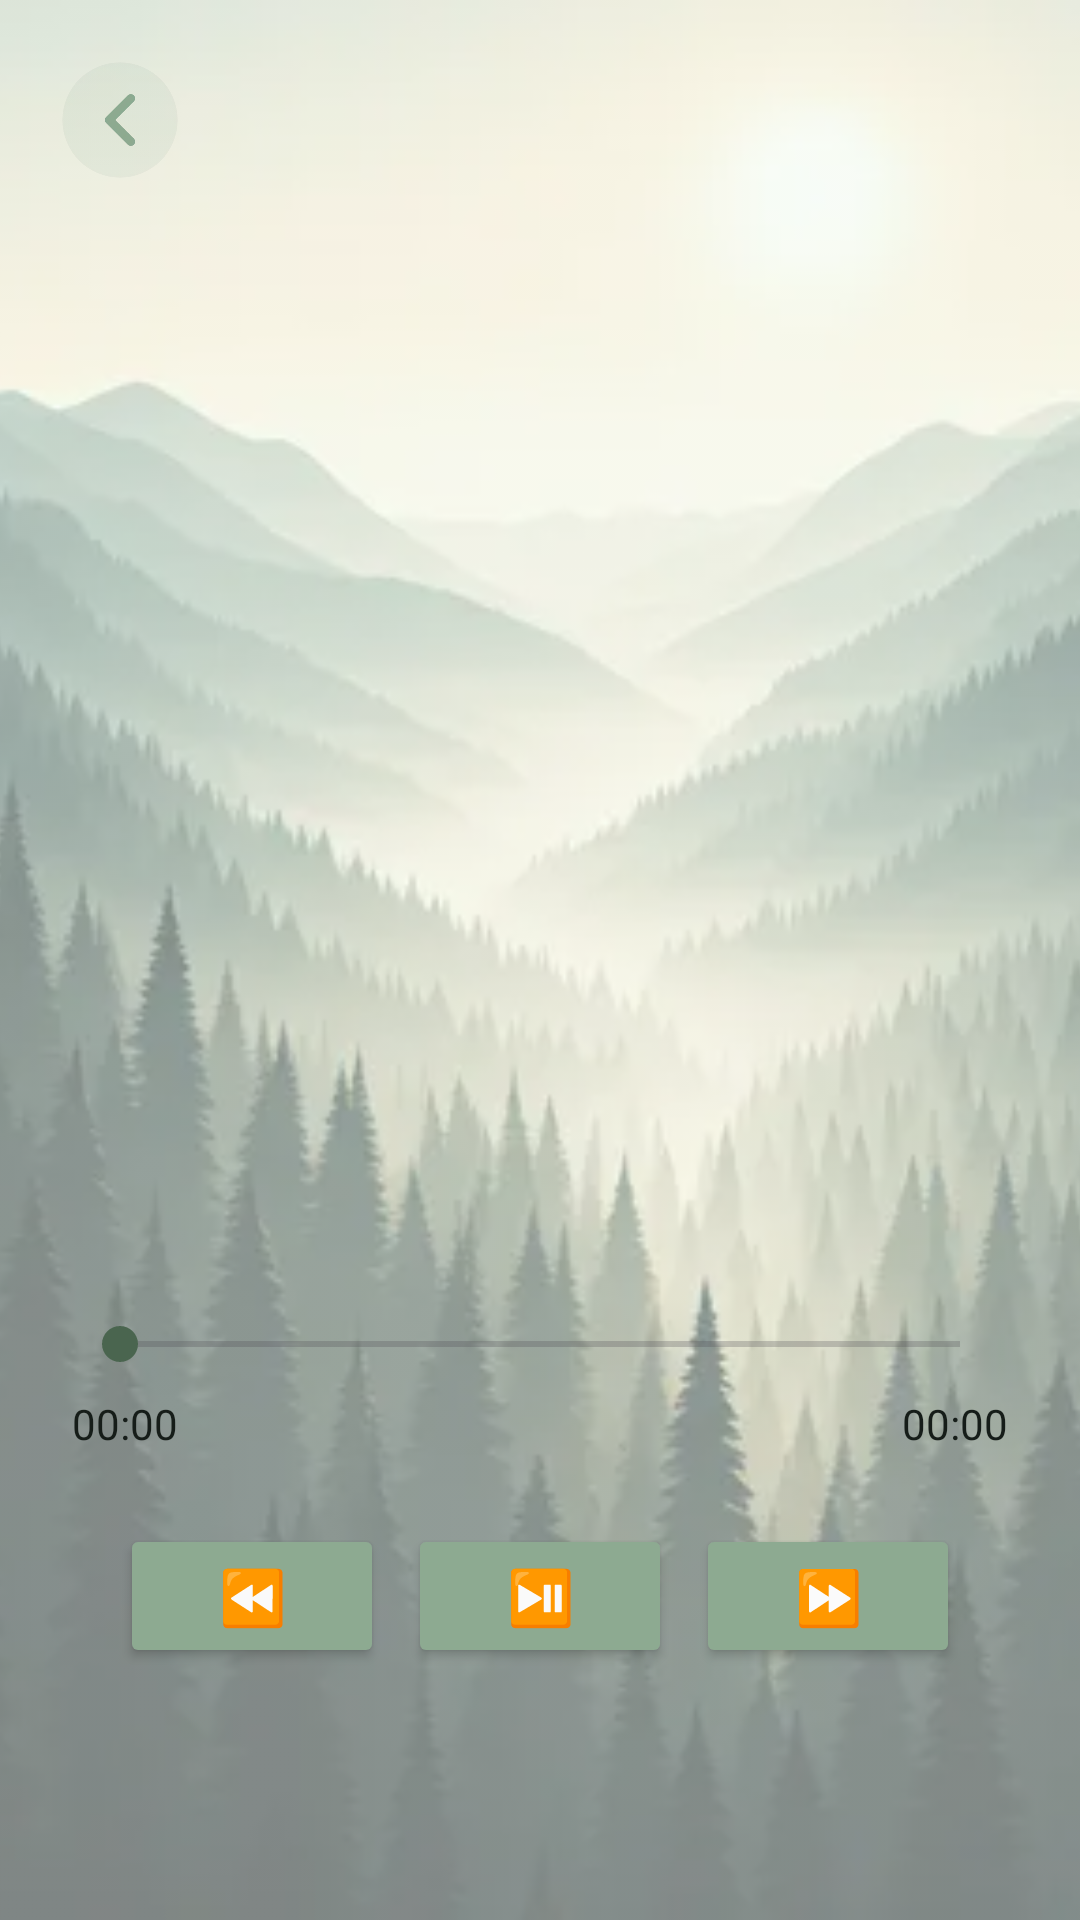

Locate icon controls on the screen. Image size 1080*1920, boxes as box(x1, y1, x2, y2).
Volver: box(105, 94, 135, 146)
